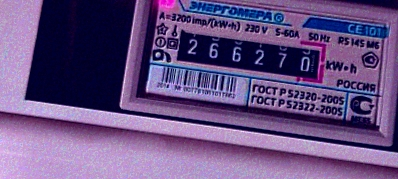0: (298, 54, 312, 73)
2: (184, 36, 200, 56), (252, 47, 266, 66)
6: (229, 45, 244, 64), (207, 41, 221, 60)
7: (275, 50, 288, 70)
screen: (165, 19, 333, 90)
